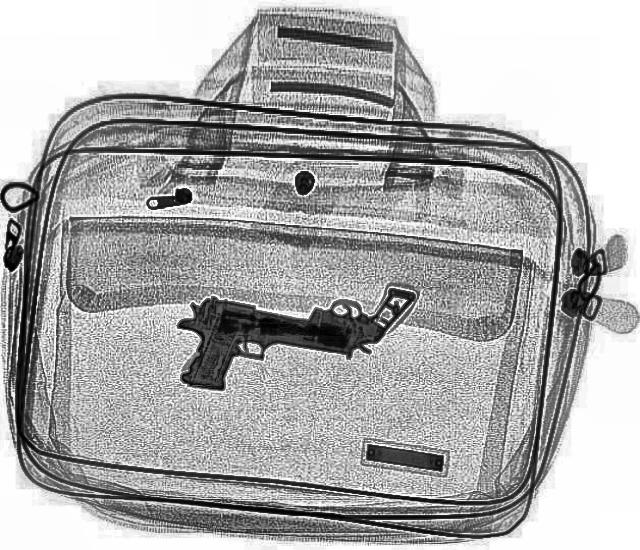Gun: (158, 290, 362, 412), (215, 261, 415, 363)
